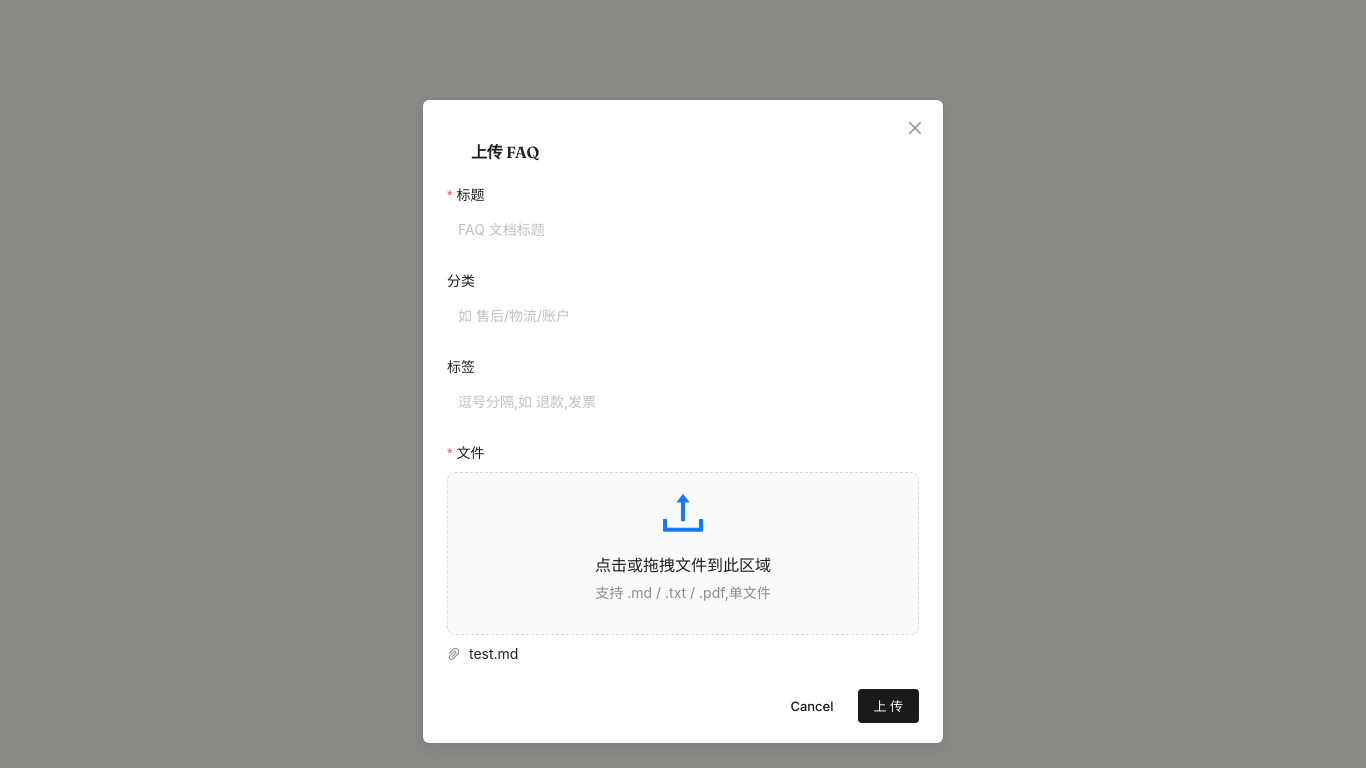
Test: <FAQUpload /> › title required rule blocks submit
What coordinates should you click on to do the following:
click the button "上 传"
I would click on:
 (888, 706)
Its box is [858,689,919,723].
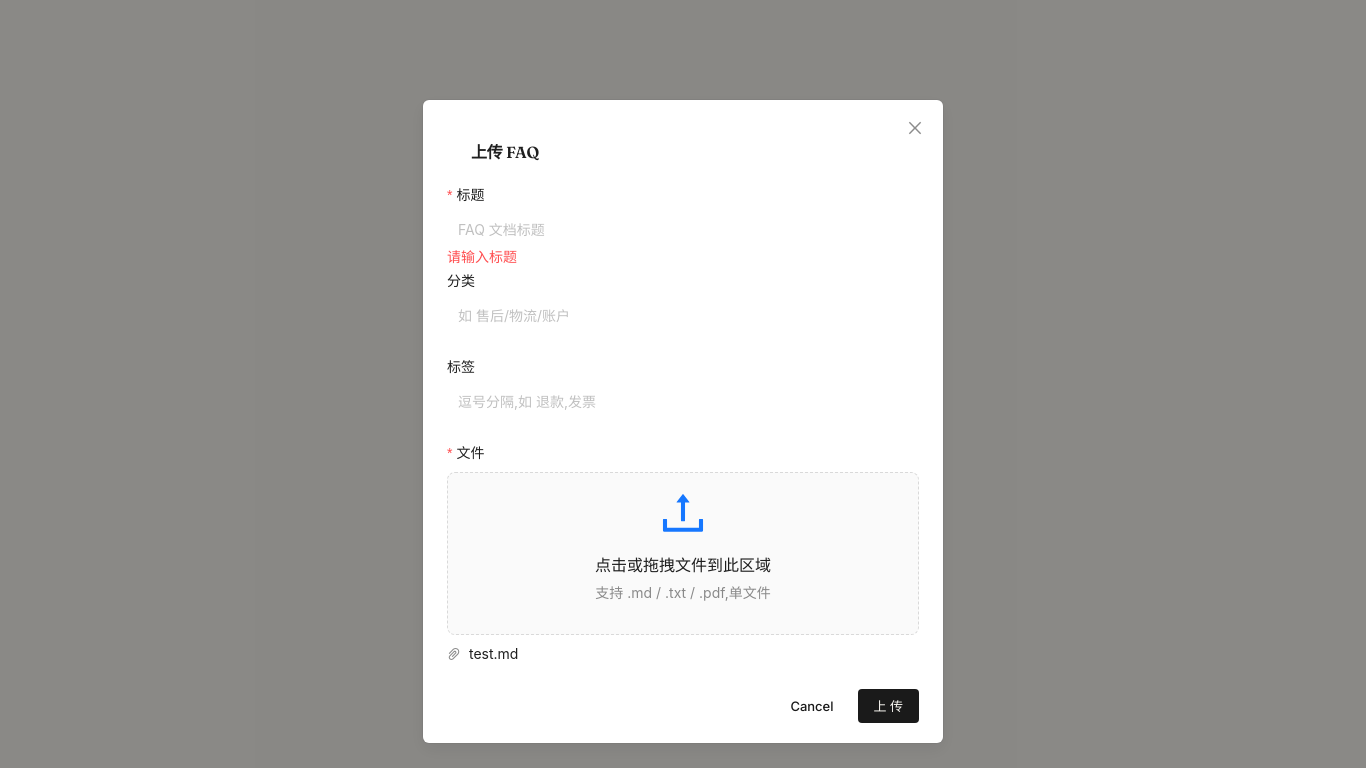
Expected: the text "请输入标题" is shown, [447,248,517,265]
